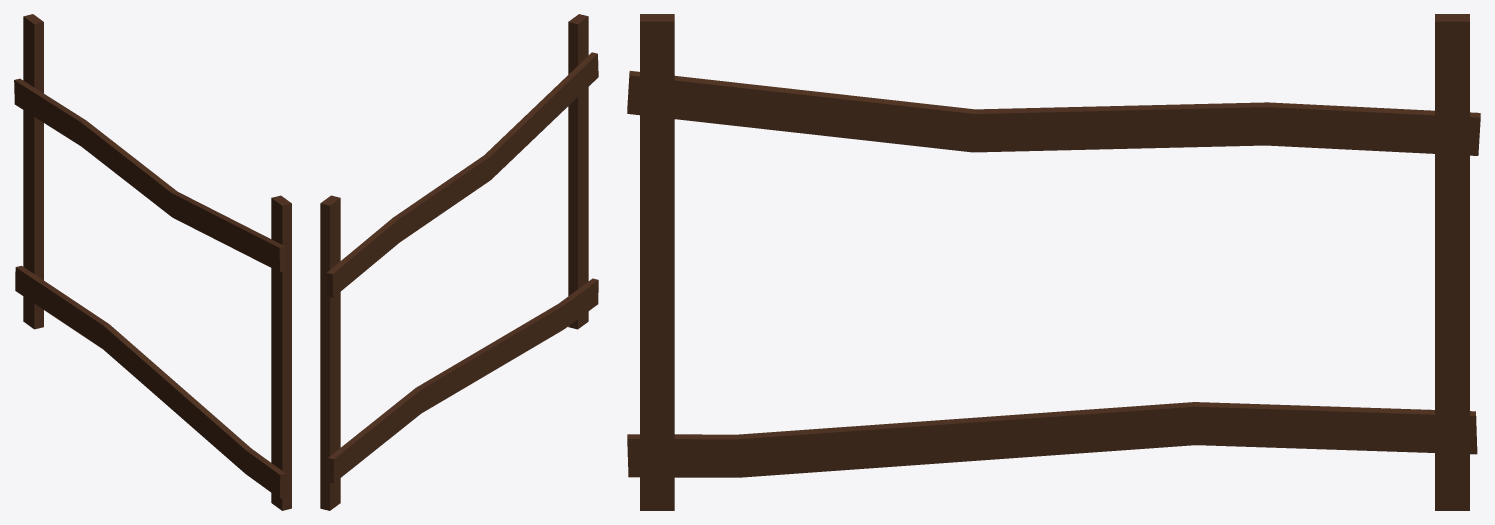
File: WoodFence3.fbx
3 views of the same model, side by side, from view 1: azimuth 30°, elevation 25°; view 2: azimuth 150°, elevation 25°; view 3: azimuth 270°, elevation 25° (orthographic). The views are drawn at different scales.
Parts seen in each view (by area): view 1: Cube.027; view 2: Cube.027; view 3: Cube.027.
Boxes of the visible parts, x1,y1,x2,y2 form: Cube.027: (14,14,291,510); Cube.027: (320,14,598,510); Cube.027: (627,14,1480,510).
Bounding box in the file's own units: 19.58 × 365 × 576.
